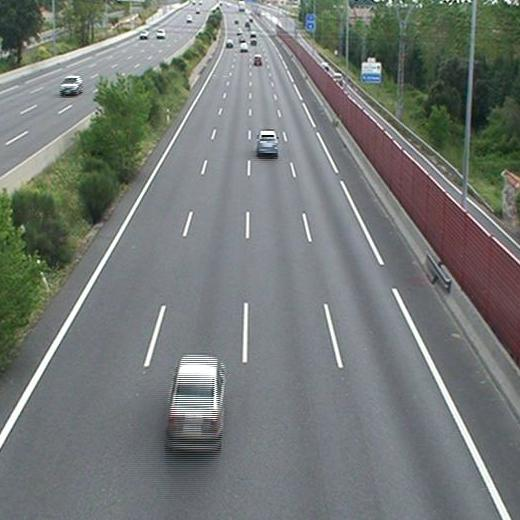car: (166, 356, 224, 443), (258, 131, 279, 155), (224, 39, 234, 48), (253, 55, 263, 63), (239, 42, 247, 51)
